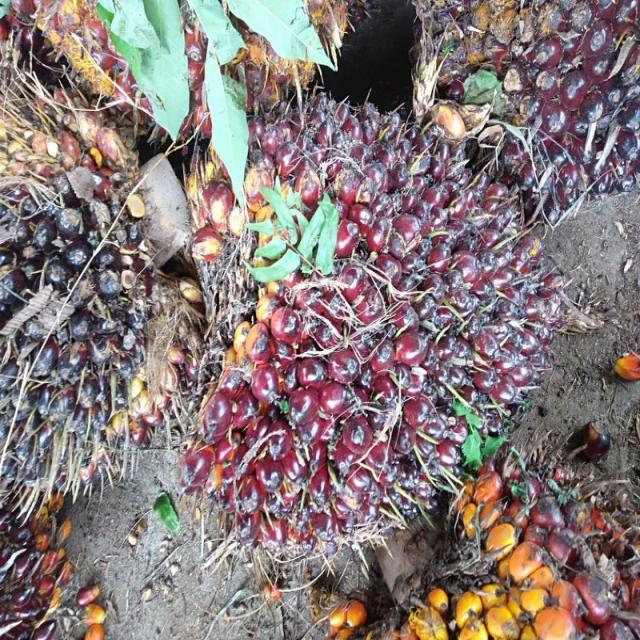fraksi 00: (0, 145, 157, 512)
fraksi 1: (177, 91, 552, 574)
